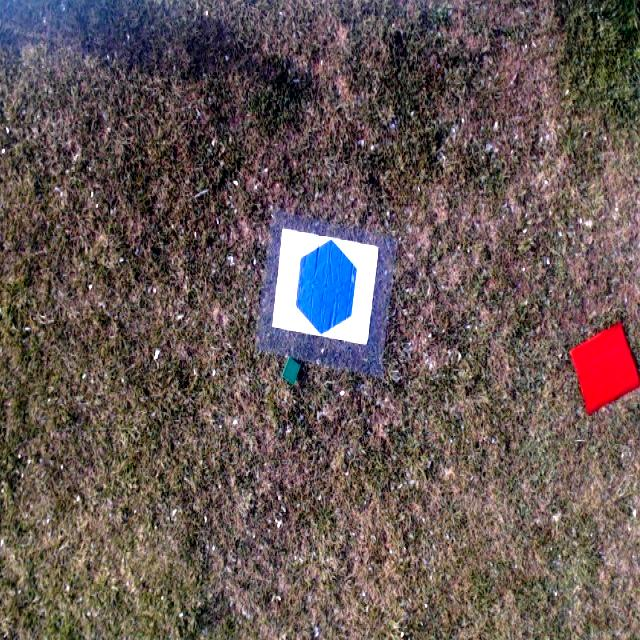blue_hexagon: (295, 239, 357, 339)
red_square: (573, 323, 637, 415)
